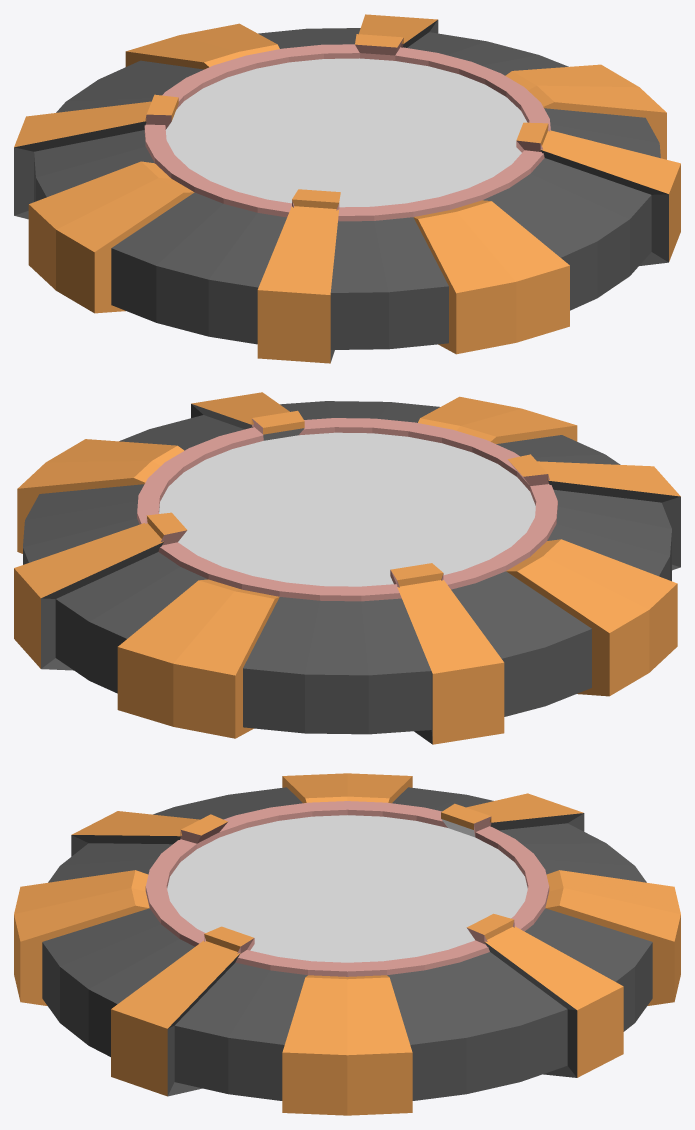
The model's file is CoreReactor.fbx.
3 renders of one model, top to bottom at view 1: azimuth 30°, elevation 25°; view 2: azimuth 150°, elevation 25°; view 3: azimuth 270°, elevation 25°, orthographic. The views are drawn at different scales.
Parts seen in each view (by area): view 1: Cylinder; view 2: Cylinder; view 3: Cylinder.
Boxes of the visible parts, x1=… form: Cylinder: x1=14, y1=14, x2=680, y2=363; Cylinder: x1=14, y1=392, x2=680, y2=744; Cylinder: x1=14, y1=773, x2=680, y2=1115.
Bounding box in the file's own units: 214 × 49.94 × 214.
